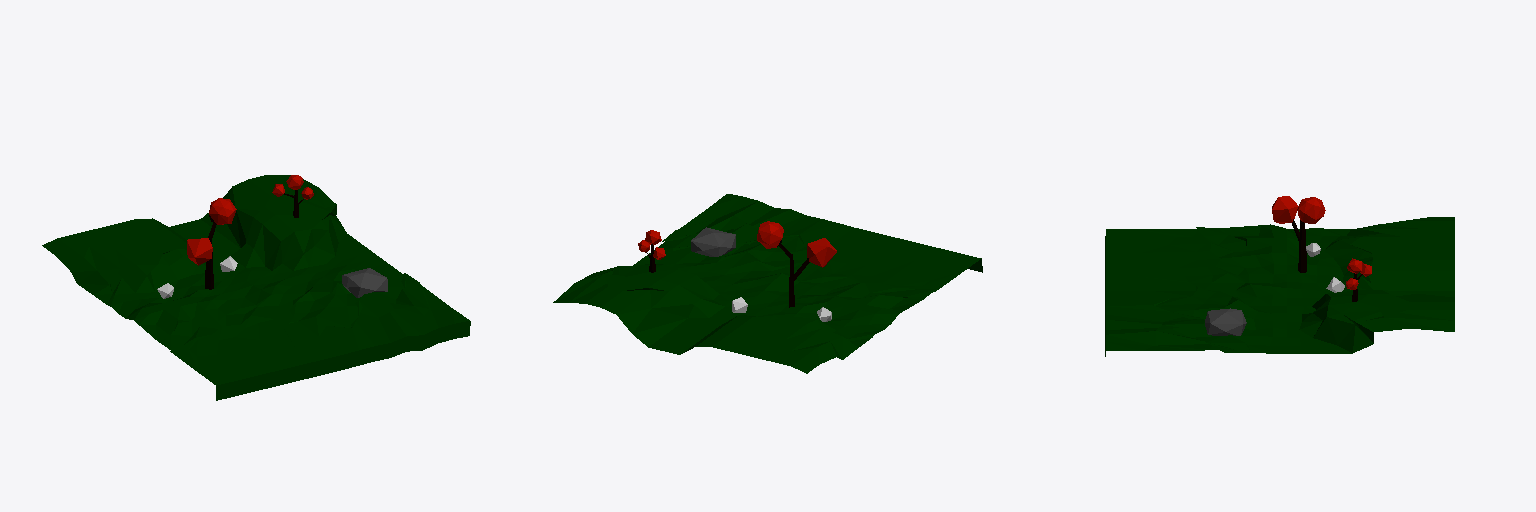
File: dusk_1.obj
3 renders of one model, left to right at view 1: azimuth 30°, elevation 25°; view 2: azimuth 150°, elevation 25°; view 3: azimuth 270°, elevation 25°, orthographic.
Parts seen in each view (by area): view 1: Plane, Cube.004_Cube.001, Sphere, Cube.008_Cube.011; view 2: Plane, Cube.004_Cube.001, Sphere, Cube.008_Cube.011; view 3: Plane, Cube.004_Cube.001, Cube.008_Cube.011, Sphere.
Boxes of the visible parts, x1,y1,x2,y2 form: Plane: [42, 175, 470, 400]; Cube.004_Cube.001: [342, 268, 387, 297]; Sphere: [187, 238, 212, 265]; Cube.008_Cube.011: [209, 198, 236, 224]; Plane: [553, 194, 982, 373]; Cube.004_Cube.001: [691, 227, 735, 256]; Sphere: [807, 238, 836, 267]; Cube.008_Cube.011: [757, 221, 783, 248]; Plane: [1105, 217, 1454, 356]; Cube.004_Cube.001: [1205, 308, 1246, 335]; Cube.008_Cube.011: [1297, 197, 1325, 223]; Sphere: [1272, 196, 1298, 223].
Bounding box in the file's own units: 16.21 × 6.04 × 19.27.